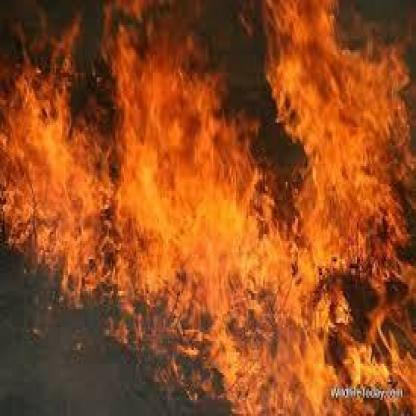fire: (0, 0, 413, 405)
